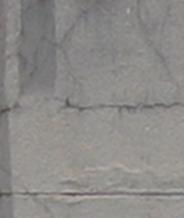fissura: (52, 84, 184, 116)
